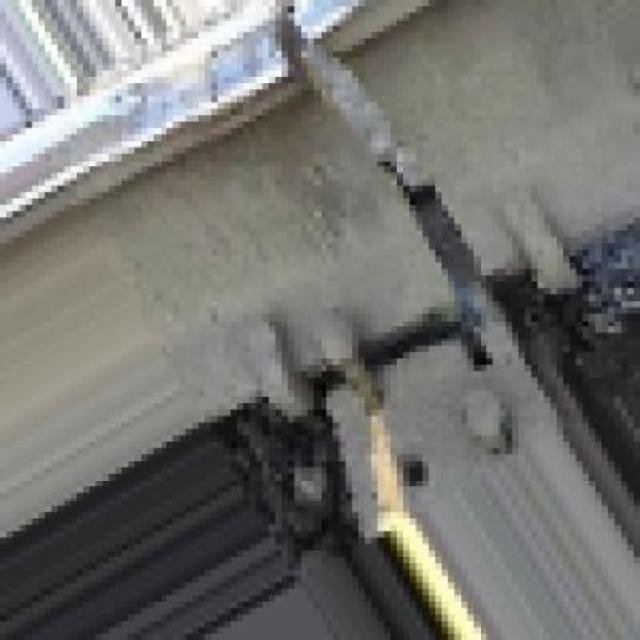defective: (66, 0, 640, 546)
